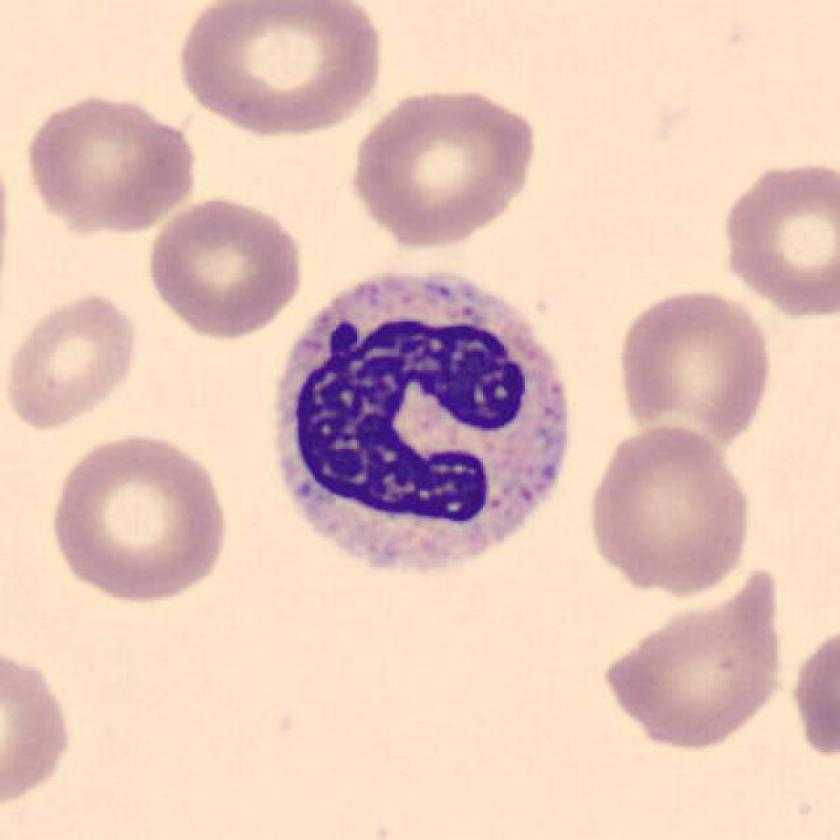neutrophil: (277, 279, 568, 571)
